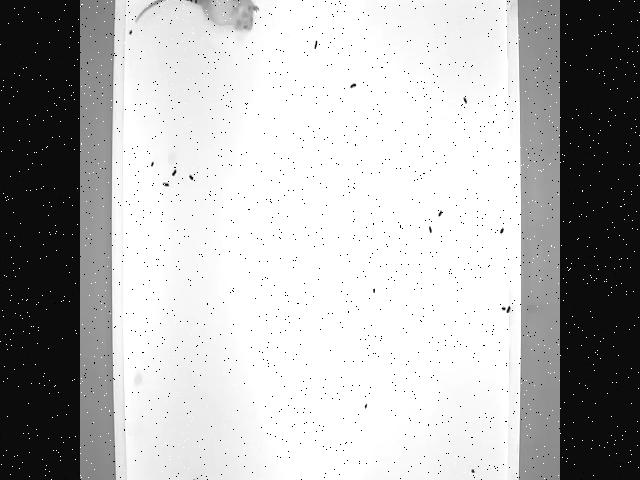Tikus: (135, 0, 257, 31)
